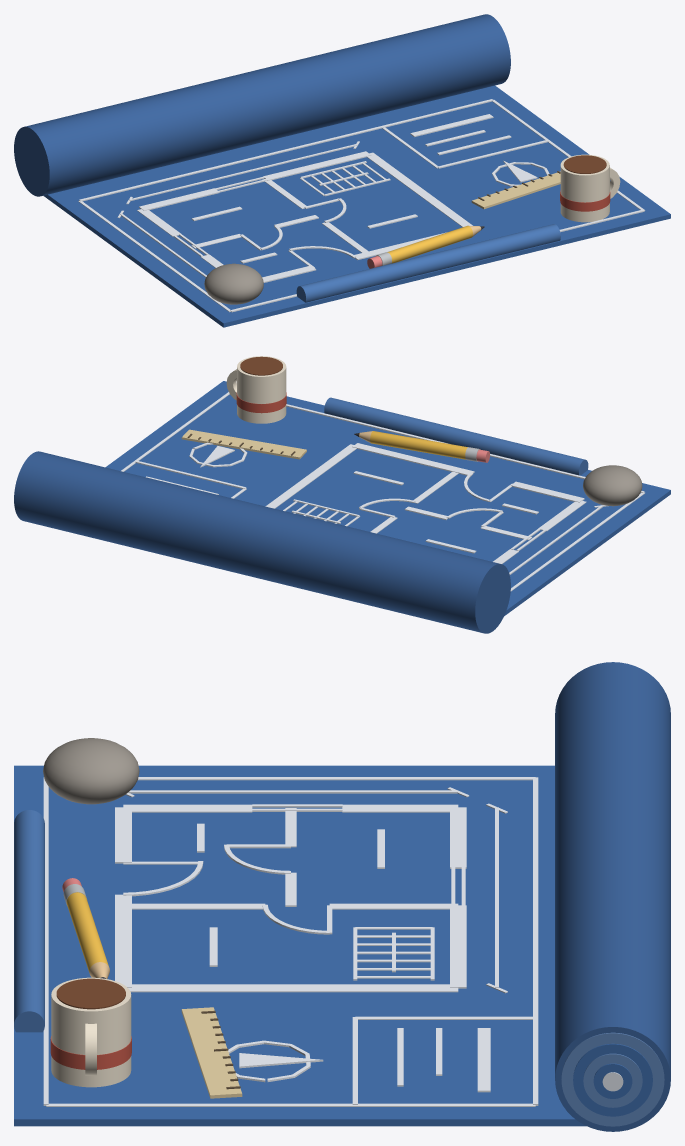
File: blueprint.glb
3 renders of one model, top to bottom at view 1: azimuth 30°, elevation 25°; view 2: azimuth 150°, elevation 25°; view 3: azimuth 270°, elevation 25°, orthographic. The views are drawn at different scales.
Visible parts, largest first — view 1: blueprint; view 2: blueprint; view 3: blueprint.
Boxes of the visible parts, left/top/right/bottom form: blueprint: left=14, top=14, right=670, bottom=327; blueprint: left=14, top=356, right=670, bottom=633; blueprint: left=14, top=662, right=670, bottom=1131.
Size of the model in its own units: 1.35 by 0.18 by 1.02.
